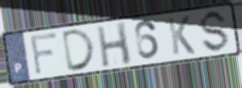6: (134, 18, 162, 62)
D: (61, 27, 98, 74)
F: (28, 31, 60, 78)
H: (95, 20, 134, 69)
K: (166, 14, 197, 57)
S: (199, 8, 231, 54)
